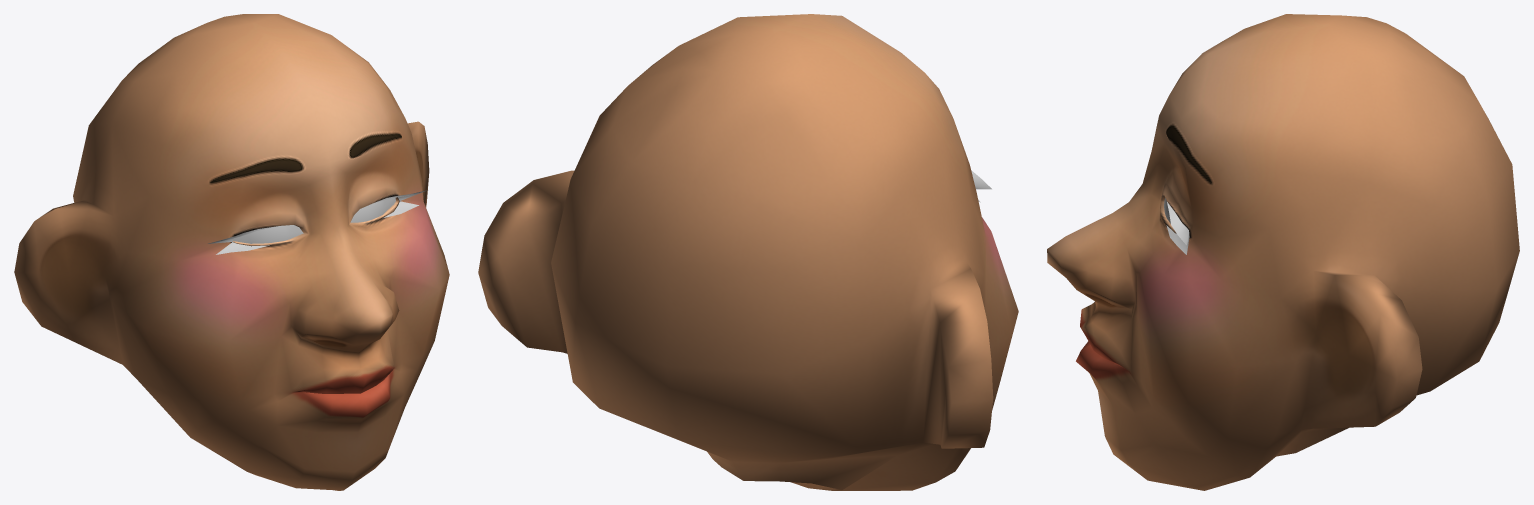
File: F_pose13.fbx
The picture shows the model from 3 angles, left to right: view 1: azimuth 30°, elevation 25°; view 2: azimuth 150°, elevation 25°; view 3: azimuth 270°, elevation 25°; orthographic projection. The views are drawn at different scales.
Visible parts, largest first — view 1: HEAD; view 2: HEAD; view 3: HEAD.
Part boxes in pixels (x1,y1,x2,y2): HEAD: (14,14,449,490); HEAD: (478,14,1018,490); HEAD: (1047,14,1519,490).
Size of the model in its own units: 27.45 by 25.65 by 24.63.
